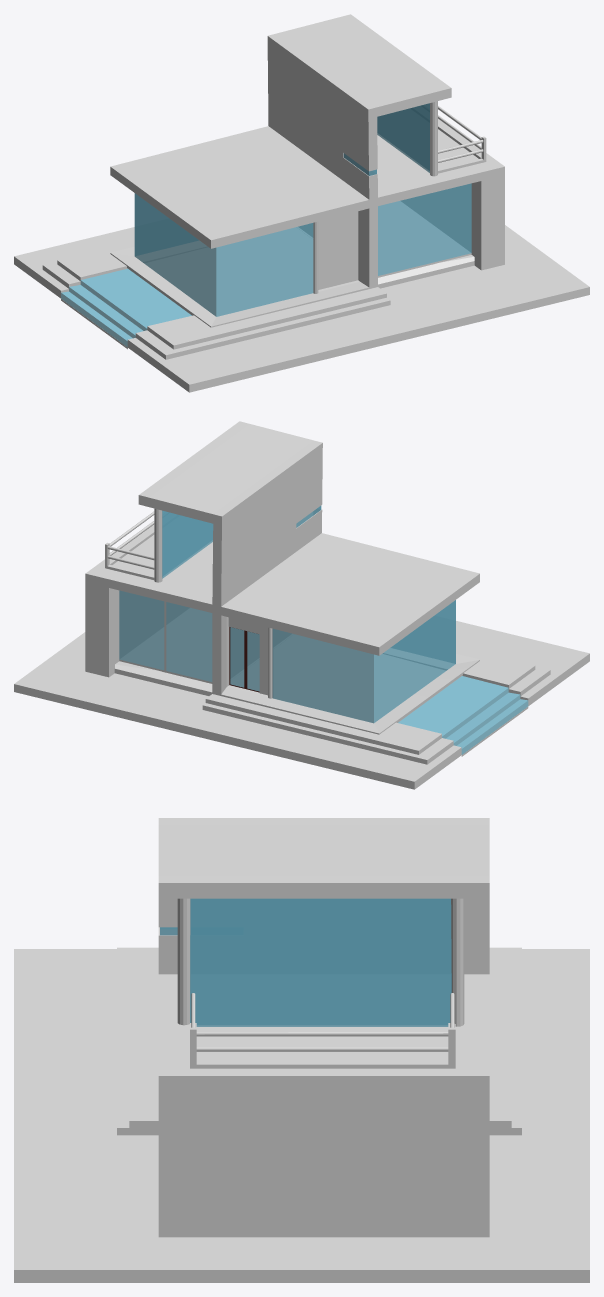
Rendered from building 2.fbx.
3 renders of one model, top to bottom at view 1: azimuth 30°, elevation 25°; view 2: azimuth 150°, elevation 25°; view 3: azimuth 270°, elevation 25°, orthographic. The views are drawn at different scales.
Parts seen in each view (by area): view 1: Cube.021; view 2: Cube.021; view 3: Cube.021.
Part boxes in pixels (x1,y1,x2,y2): Cube.021: (14,14,589,392); Cube.021: (14,421,589,789); Cube.021: (14,818,589,1282).
Size of the model in its own units: 289 by 138 by 219.
